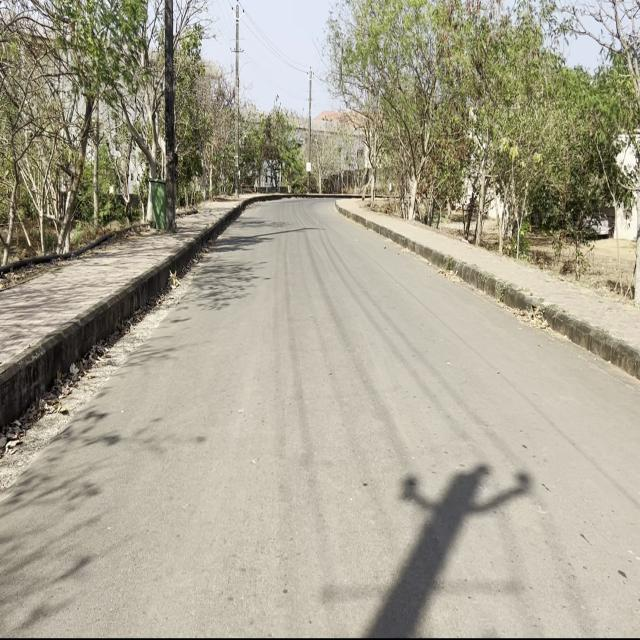Road: (2, 201, 638, 633)
